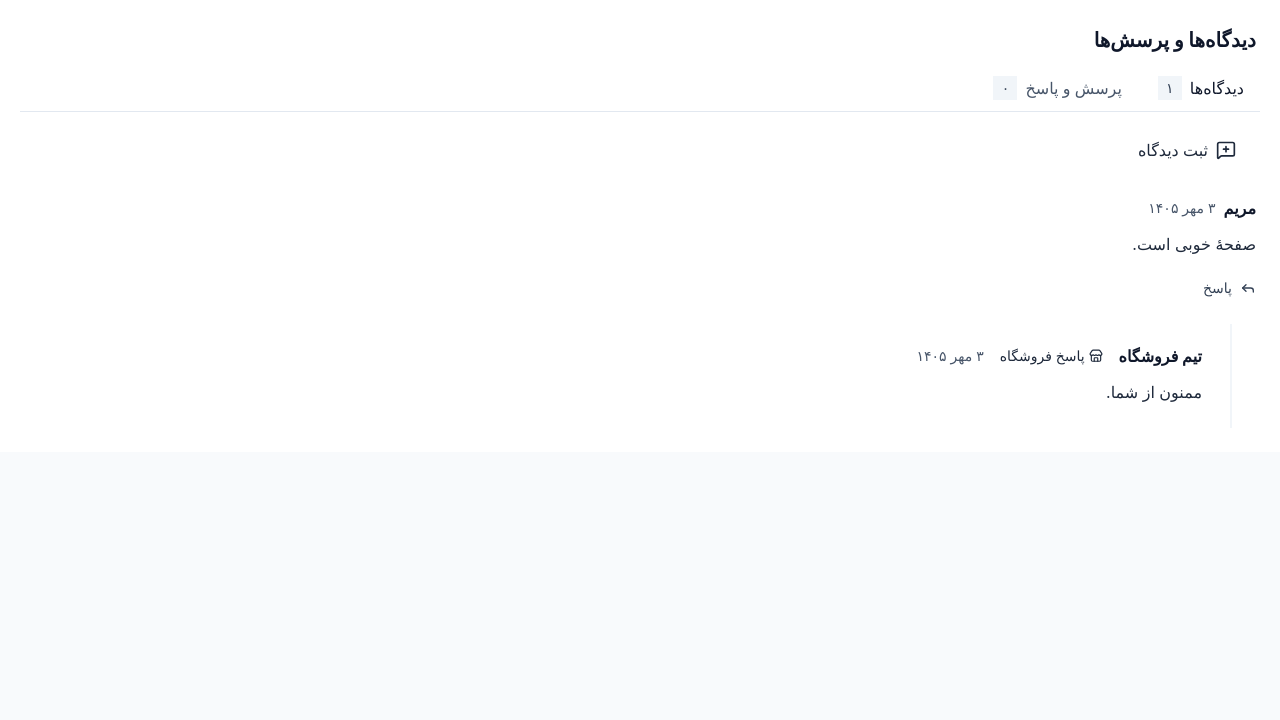
Test: PageComments › a send to the page’s own path; the moderation notice, nothing inserted
Click the button "ثبت دیدگاه" at (1187, 150), box top-left (1118, 128), bottom-right (1256, 172)
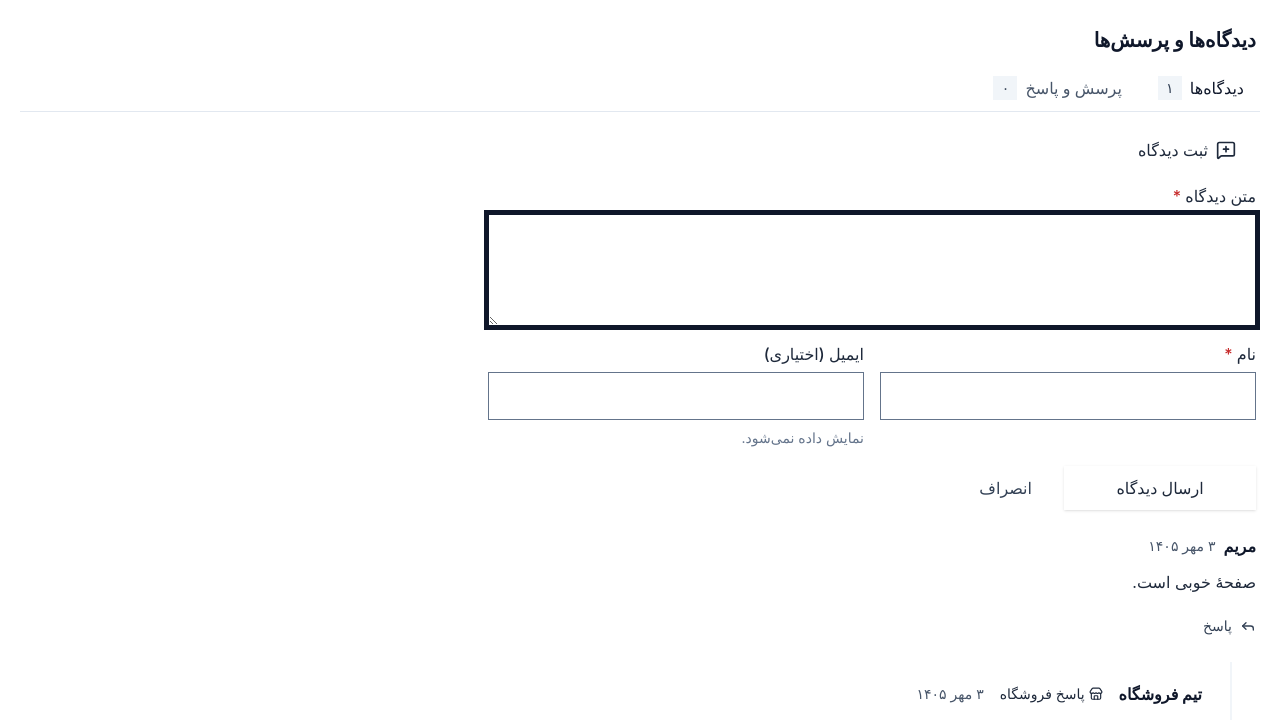
Type "عالی" into the text box labelled "متن دیدگاه *" at (872, 270), box top-left (488, 214), bottom-right (1256, 326)
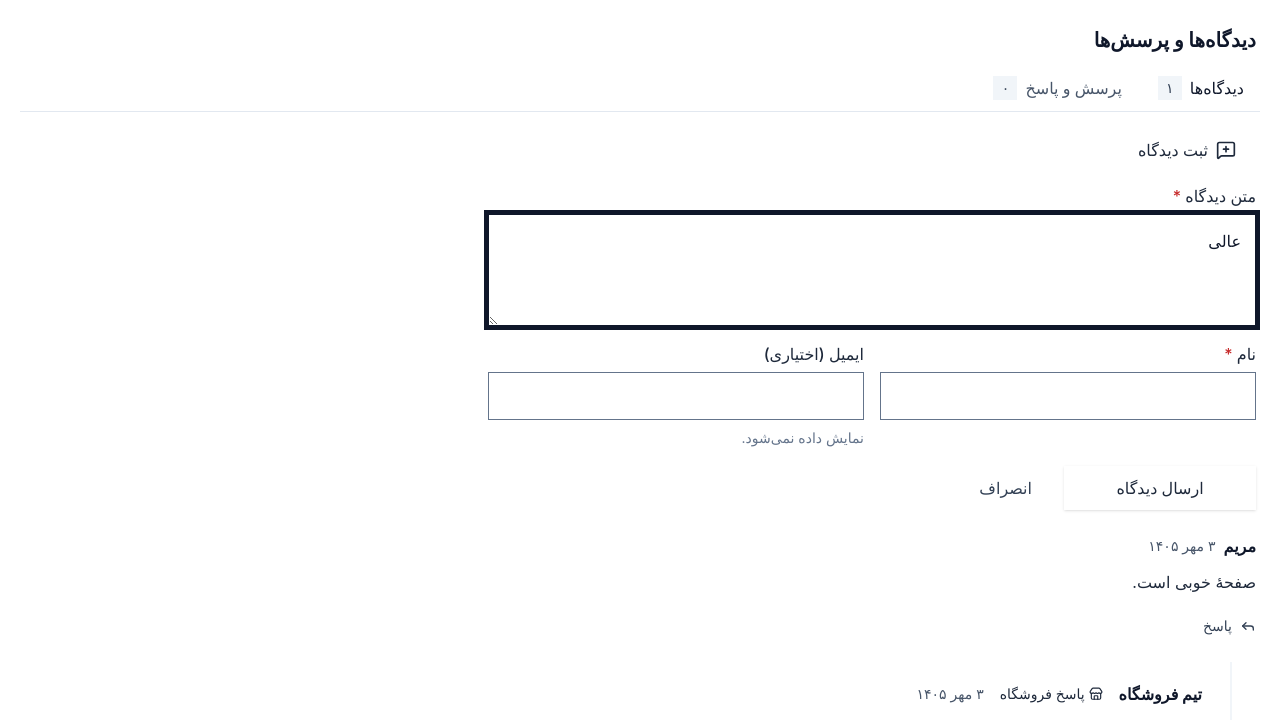
Type "سارا" into the field labelled "نام *" at (1068, 396), box top-left (881, 373), bottom-right (1255, 419)
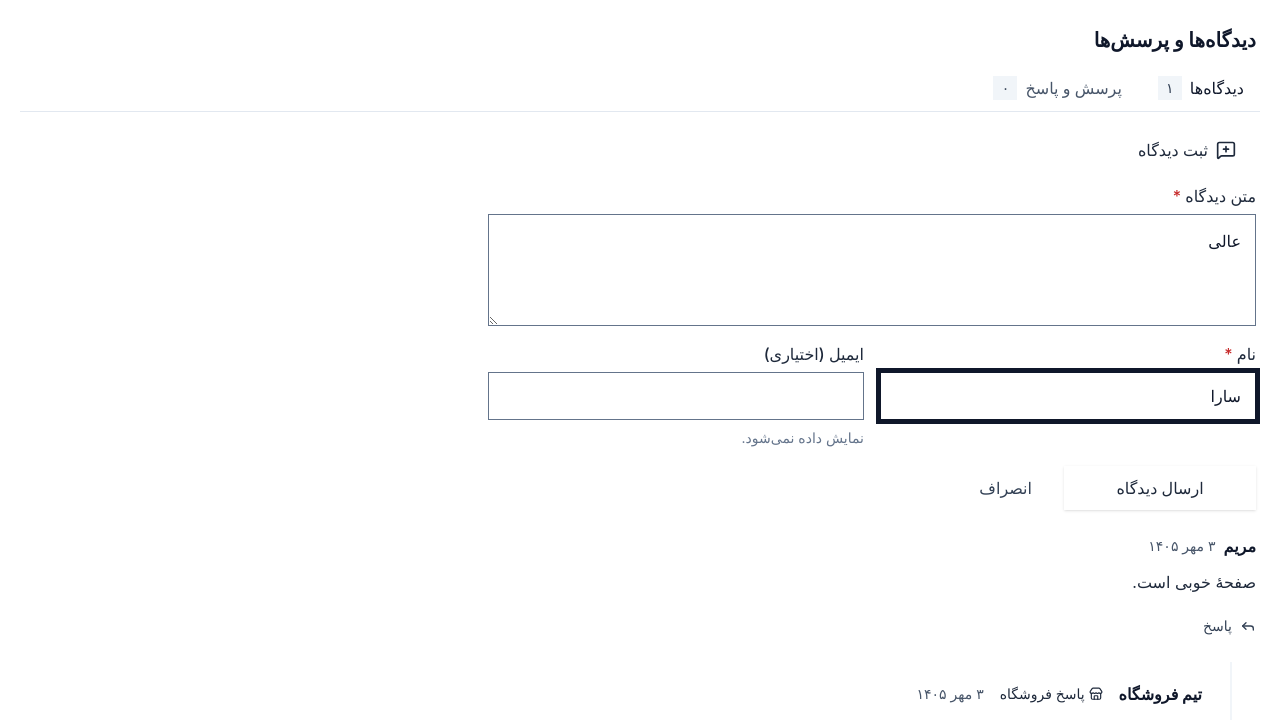
Click the button "ارسال دیدگاه" at (1160, 488), box top-left (1064, 466), bottom-right (1256, 510)
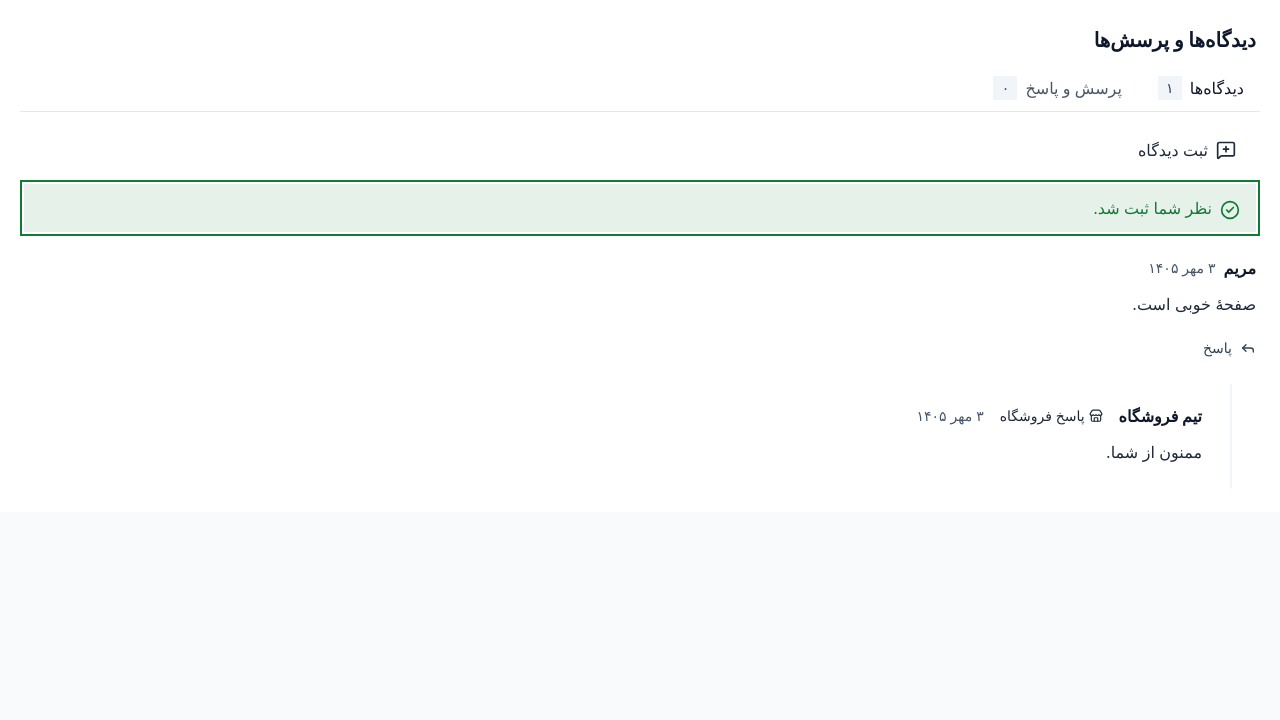
Result: the message reads "نظر شما ثبت شد." at top-left (1093, 198), bottom-right (1212, 218)
